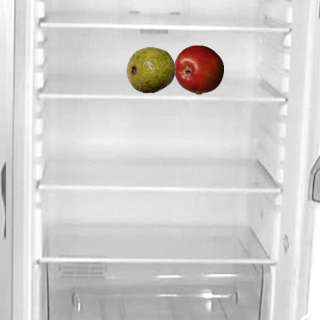Apple Braeburn: (173, 44, 223, 94)
Guava: (125, 44, 175, 94)
